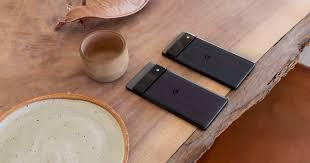Smartphone: (133, 63, 227, 130), (168, 32, 255, 90)
